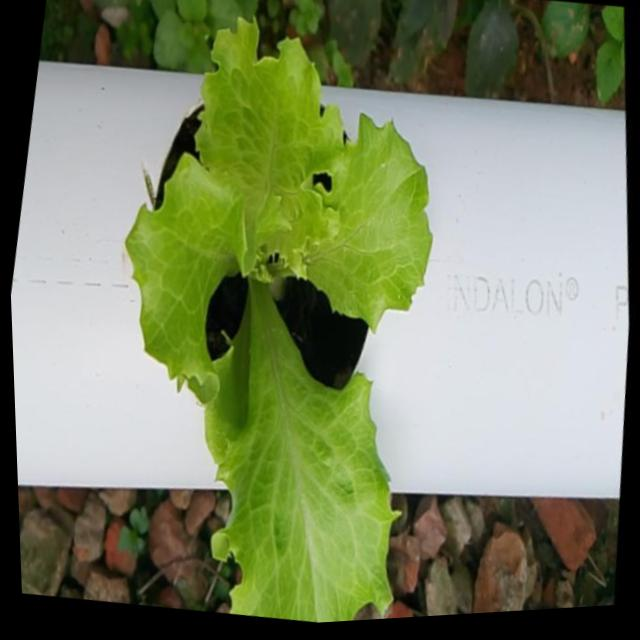Baby: (127, 13, 430, 623)
